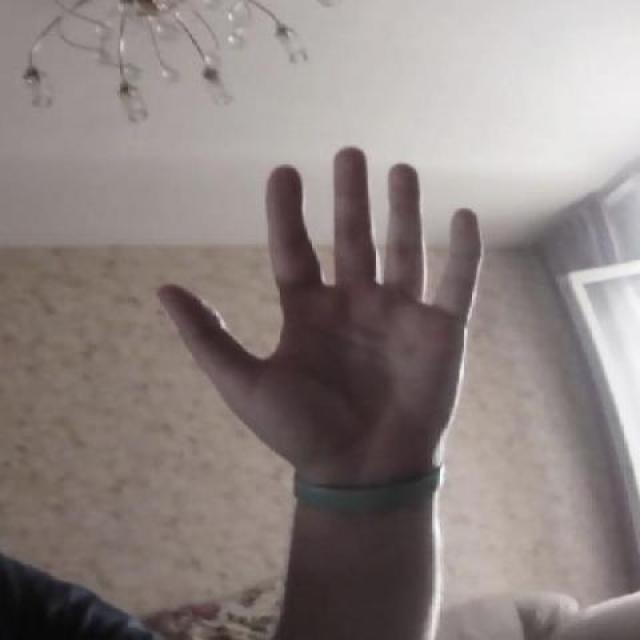Open Hand: (150, 145, 486, 499)
